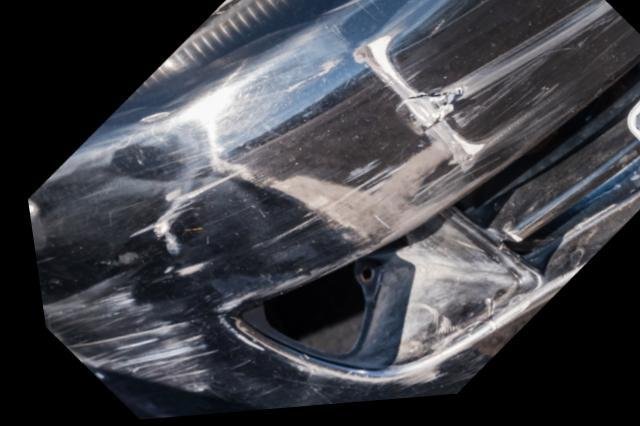rub: (29, 0, 640, 401)
